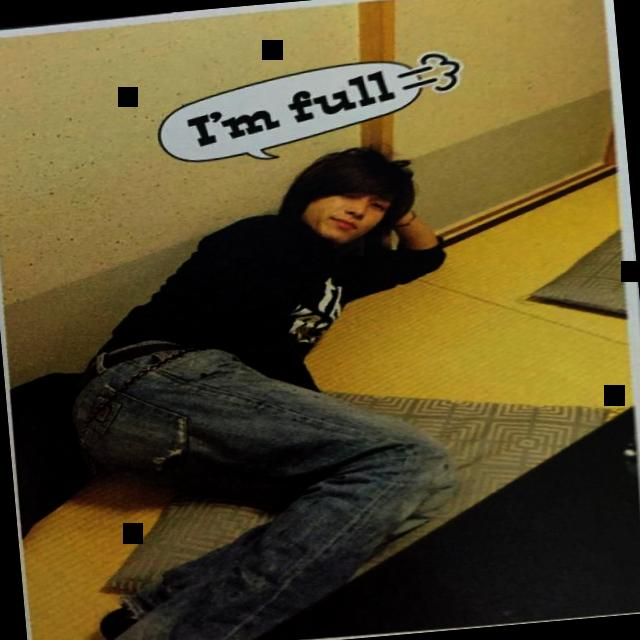Fall-Detected: (15, 131, 486, 640)
